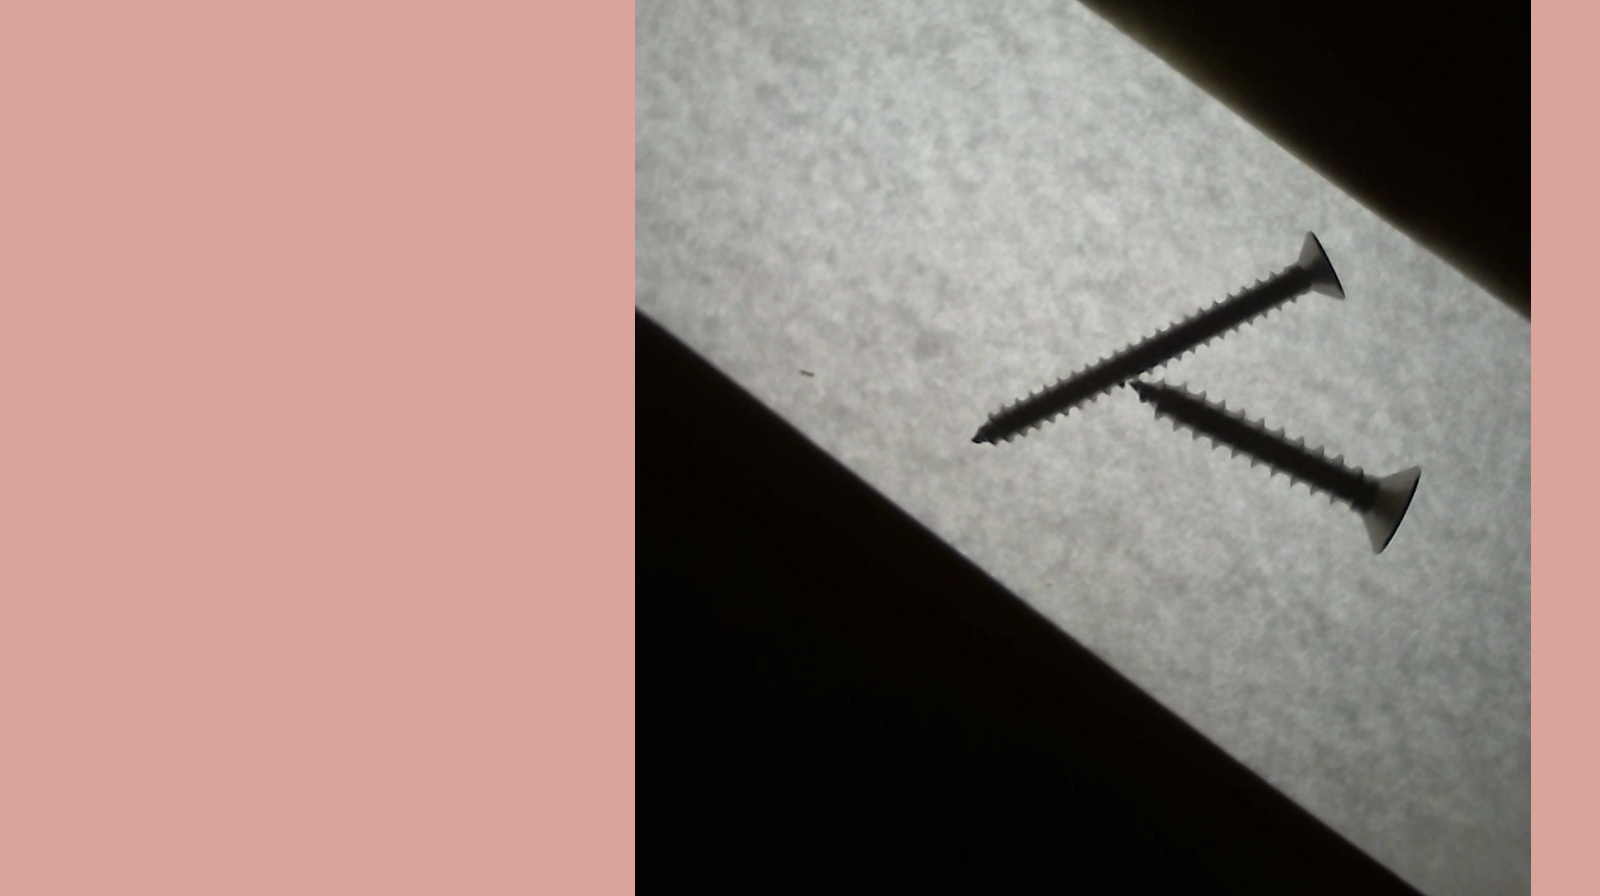S001: (1133, 373, 1425, 554)
S002: (970, 224, 1351, 449)
